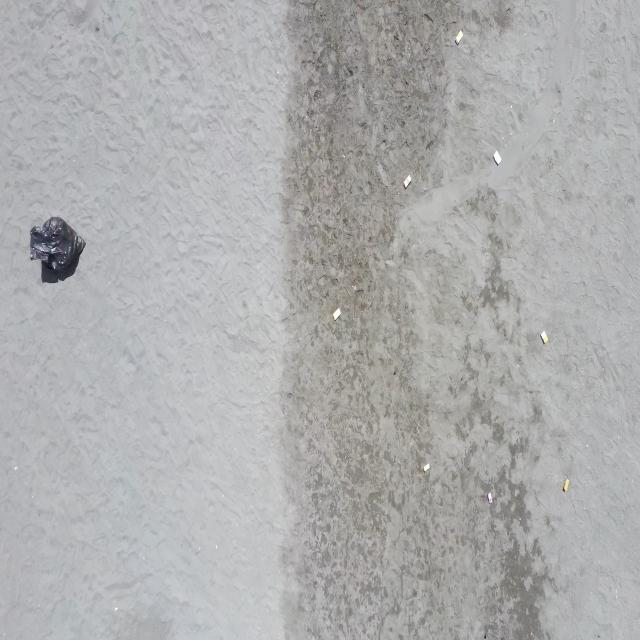retort-pouch: (402, 172, 412, 190), (454, 28, 463, 47), (493, 149, 502, 167), (333, 306, 341, 322), (540, 330, 548, 346), (562, 476, 569, 494), (487, 491, 494, 505), (423, 461, 430, 474)
